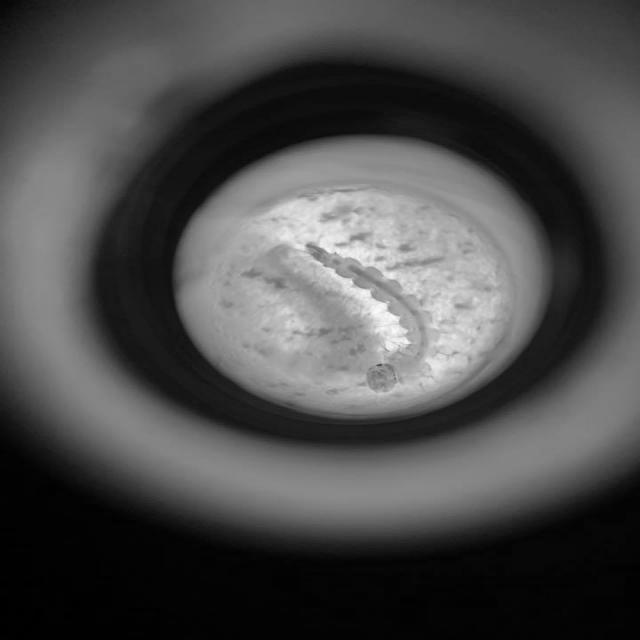larvas: (312, 242, 435, 392)
